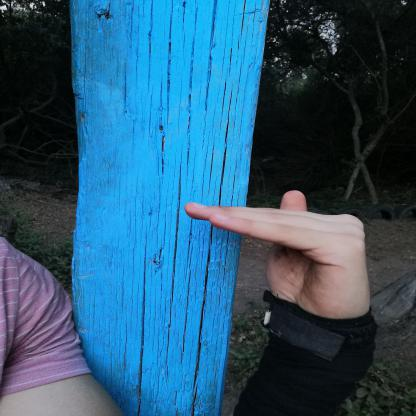KHAA: (168, 182, 396, 332)
